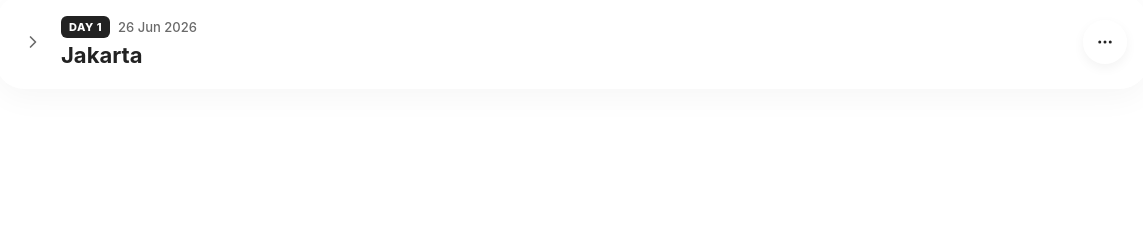
Test: DayTimeline › shows compact weather for an available item
Click the button named "toggle collapse" at coordinates (33, 42), box [17,26,49,58]
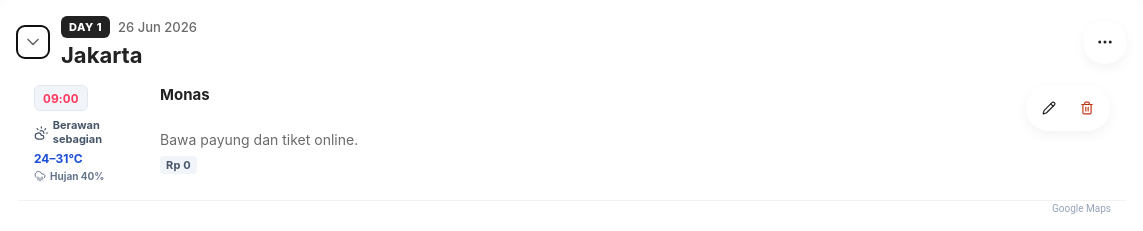
Check: the element named "lihat detail cuaca" is shown, box [34,85,144,184]
Check: the text "Google Maps" is shown, box [1052,203,1111,214]
